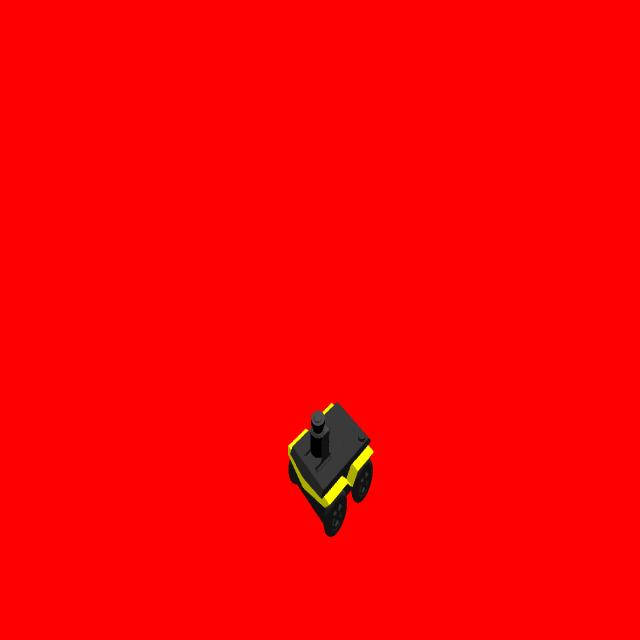jackal: (286, 391, 378, 539)
